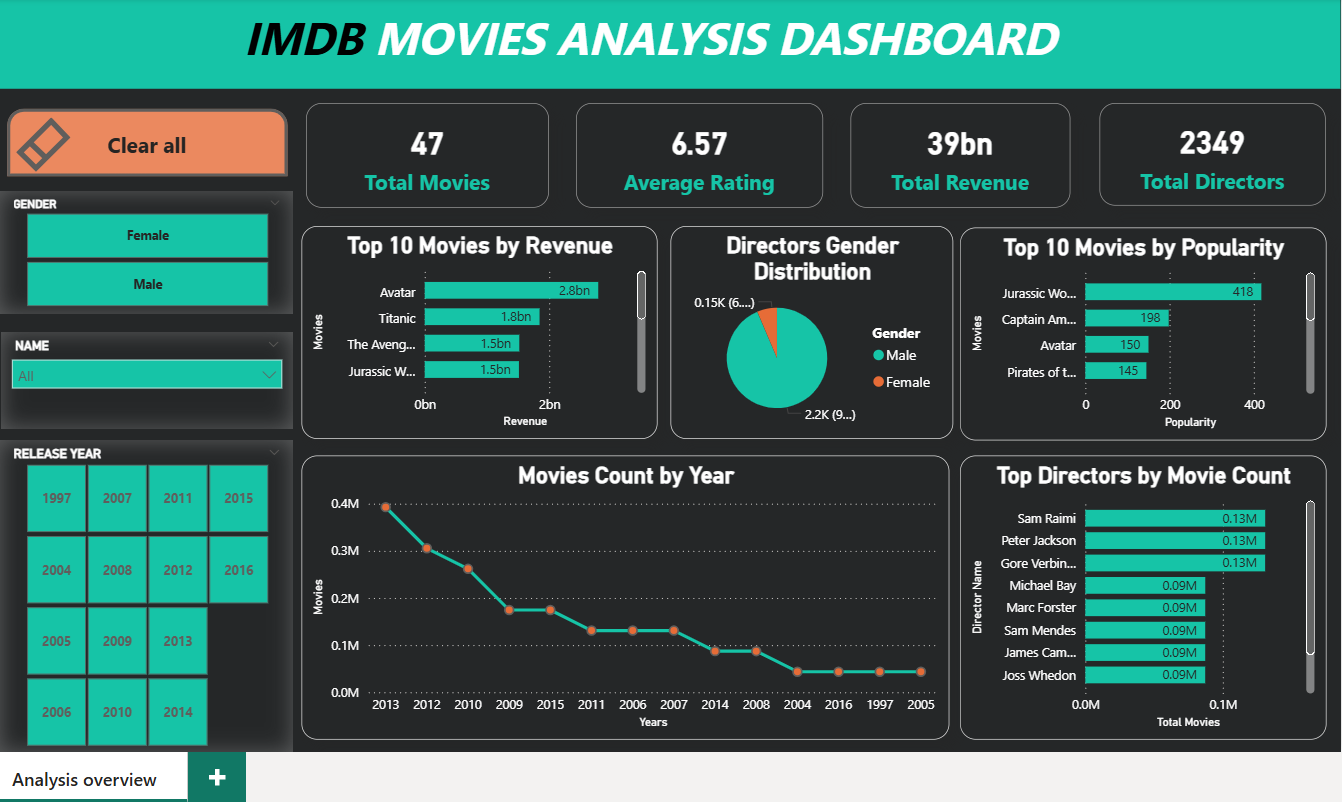

Layout of this report page (visuals, bound fields, positions):
{"tool":"powerbi","page":{"name":"Analysis overview","canvas":[1280,720],"ordinal":0},"visuals":[{"type":"card","fields":{"Values":["movies.Total Movies"]},"box":[292,100,232,100],"z":0},{"type":"card","fields":{"Values":["movies.Average Rating"]},"box":[550,100,236,100],"z":1000},{"type":"card","fields":{"Values":["movies.Total Revenue"]},"box":[812,100,210,100],"z":2000},{"type":"card","fields":{"Values":["directors.Total Directors"]},"box":[1050,100,216,98],"z":3000},{"type":"shape","box":[0,0,1280,86.7],"z":4000},{"type":"textbox","box":[140,3.3,960,78.3],"z":5000},{"type":"clusteredBarChart","title":"Top 10 Movies by Revenue","fields":{"Category":["movies.original_title"],"Y":["Sum(movies.revenue)"]},"box":[288.2,218.2,340,203.6],"z":6000},{"type":"clusteredBarChart","title":"Top 10 Movies by Popularity","fields":{"Y":["Sum(movies.popularity)"],"Category":["movies.original_title"]},"box":[916.9,218.5,350,203.1],"z":7000},{"type":"pieChart","title":"Directors Gender Distribution","fields":{"Category":["directors.gender_name"],"Y":["CountNonNull(directors.id)"]},"box":[640,218.3,270,203.3],"z":8000},{"type":"clusteredBarChart","title":"Top Directors by Movie Count","fields":{"Y":["Sum(movies.id)"],"Category":["directors.name"]},"box":[916.9,436.9,350,271.5],"z":9000},{"type":"lineChart","title":"Movies Count by Year","fields":{"Category":["movies.year"],"Y":["Sum(movies.id)"]},"box":[288.6,437.1,618.6,271.4],"z":10000},{"type":"slicer","fields":{"Values":["movies.year"]},"box":[0,422,280,298],"z":11000},{"type":"slicer","fields":{"Values":["directors.name"]},"box":[2,320,278,92],"z":12000},{"type":"slicer","fields":{"Values":["directors.gender_name"]},"box":[0,185.1,280.3,116.4],"z":13000},{"type":"actionButton","box":[2,100,278,76],"z":14000}]}

Visuals, with their boxes on the page's 1280x720 design canvas (x1, y1, x2, y2). These are canvas units, not pixel positions in the 1342x802 screenshot, which may show the page scaled, cropped or inside an application window:
card - movies.Total Movies: <box>292,100,524,200</box>
card - movies.Average Rating: <box>550,100,786,200</box>
card - movies.Total Revenue: <box>812,100,1022,200</box>
card - directors.Total Directors: <box>1050,100,1266,198</box>
shape: <box>0,0,1280,87</box>
textbox: <box>140,3,1100,82</box>
"Top 10 Movies by Revenue" clusteredBarChart: <box>288,218,628,422</box>
"Top 10 Movies by Popularity" clusteredBarChart: <box>917,218,1267,422</box>
"Directors Gender Distribution" pieChart: <box>640,218,910,422</box>
"Top Directors by Movie Count" clusteredBarChart: <box>917,437,1267,708</box>
"Movies Count by Year" lineChart: <box>289,437,907,708</box>
slicer - movies.year: <box>0,422,280,720</box>
slicer - directors.name: <box>2,320,280,412</box>
slicer - directors.gender_name: <box>0,185,280,302</box>
actionButton: <box>2,100,280,176</box>
